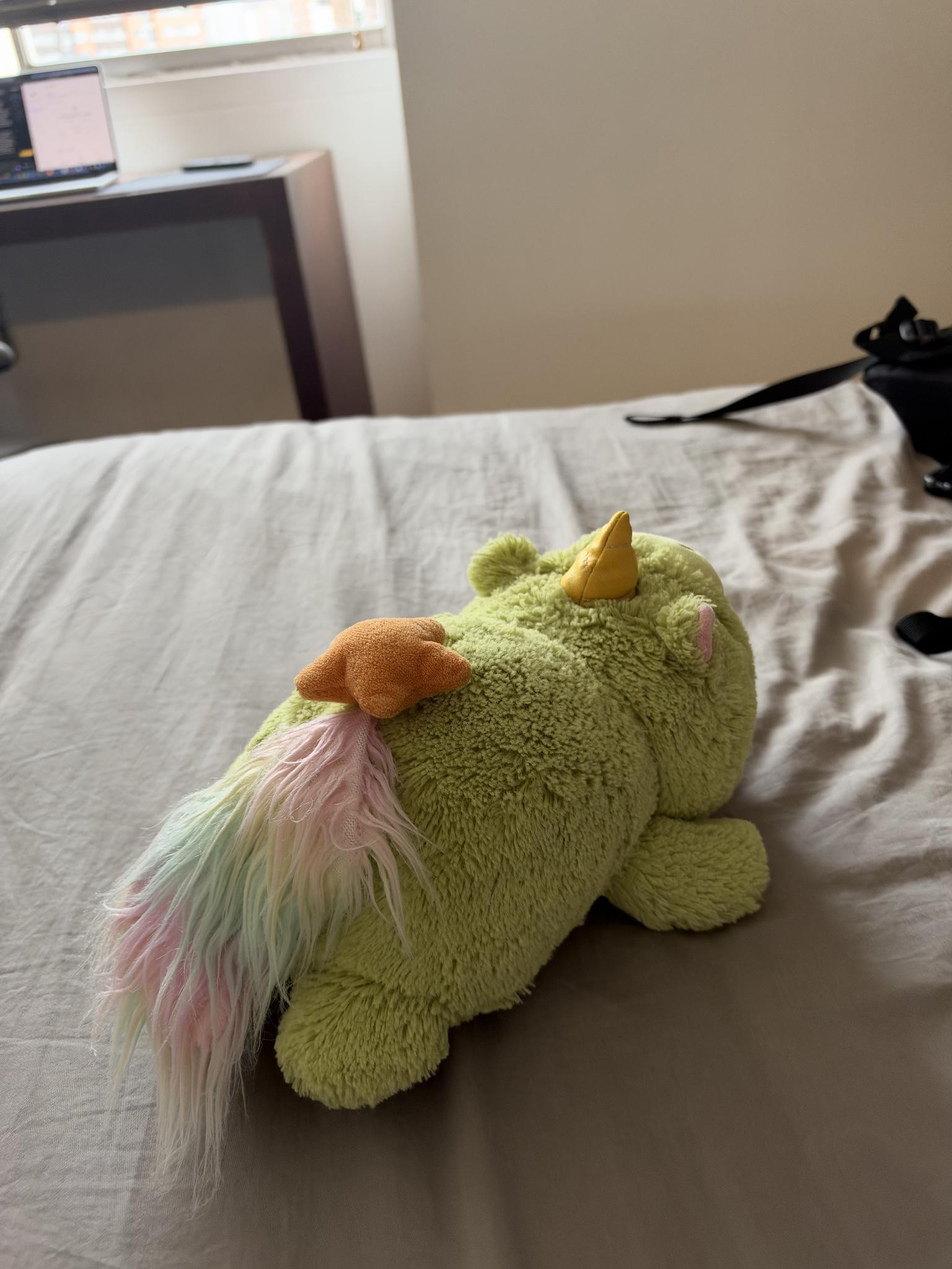peluche_martin: (96, 507, 768, 1119)
